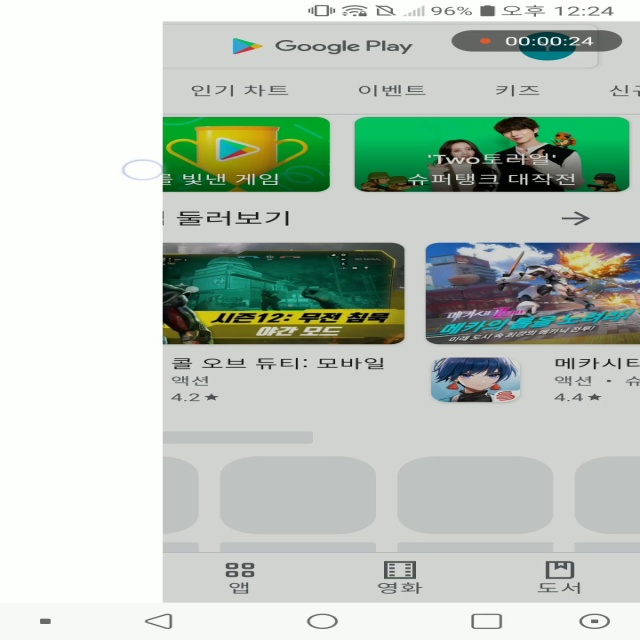Cursor: (120, 159, 164, 181)
